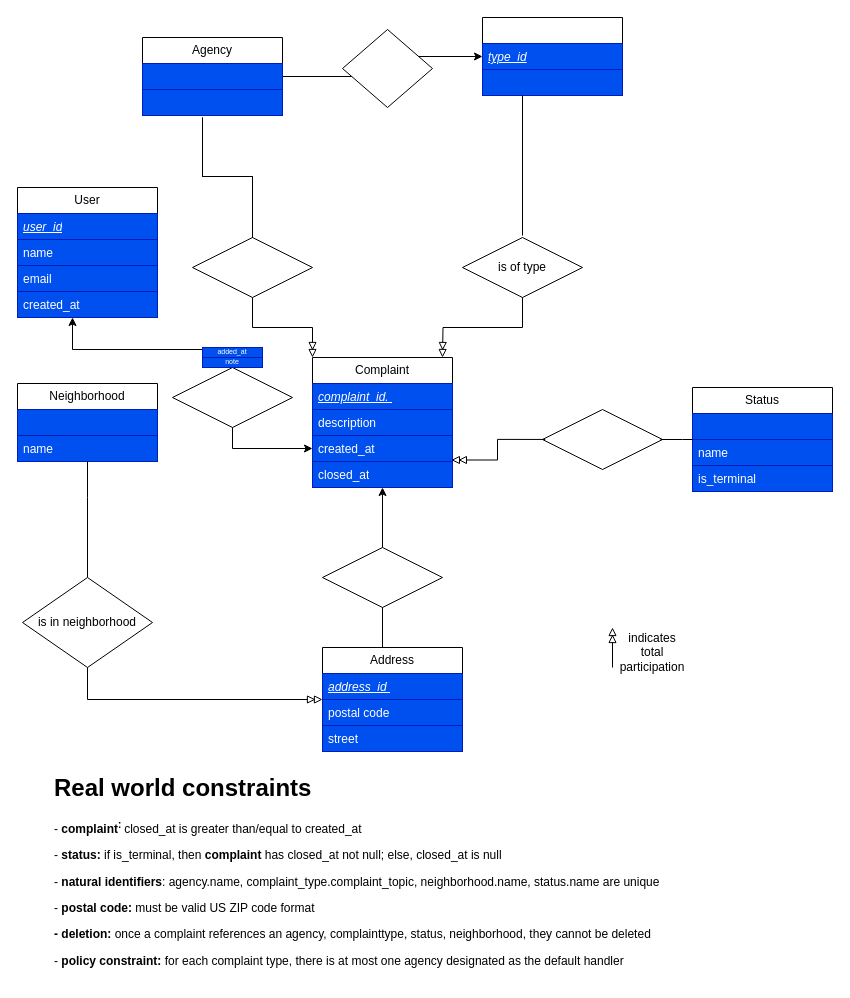
This 850x998 diagram has some shape labels left out. The box of each missing label's shape, as (x1, y1, x2, y2) in pixels:
agency_id: (142, 62, 282, 90)
agency_name: (142, 88, 282, 116)
Complaint Type: (482, 16, 622, 96)
complaint_topic: (482, 68, 622, 96)
filed for: (322, 546, 442, 608)
handled_by: (192, 236, 312, 298)
handles by default: (342, 28, 432, 108)
has status: (542, 408, 662, 470)
neighborhood_id: (16, 408, 158, 436)
status_id: (692, 412, 832, 440)
tracked by: (172, 366, 292, 428)
